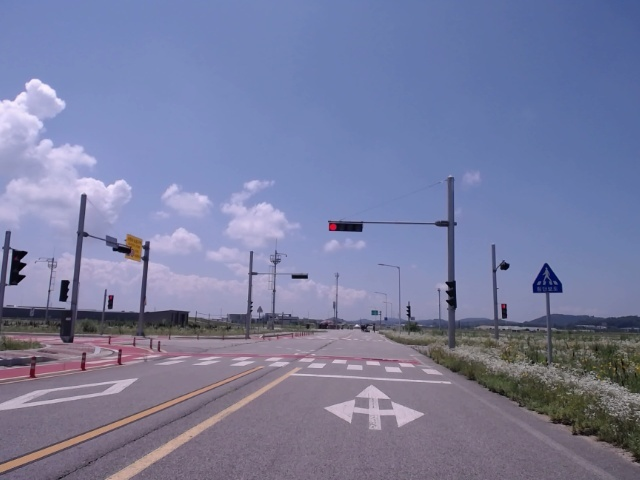red_4: (329, 223, 363, 232)
